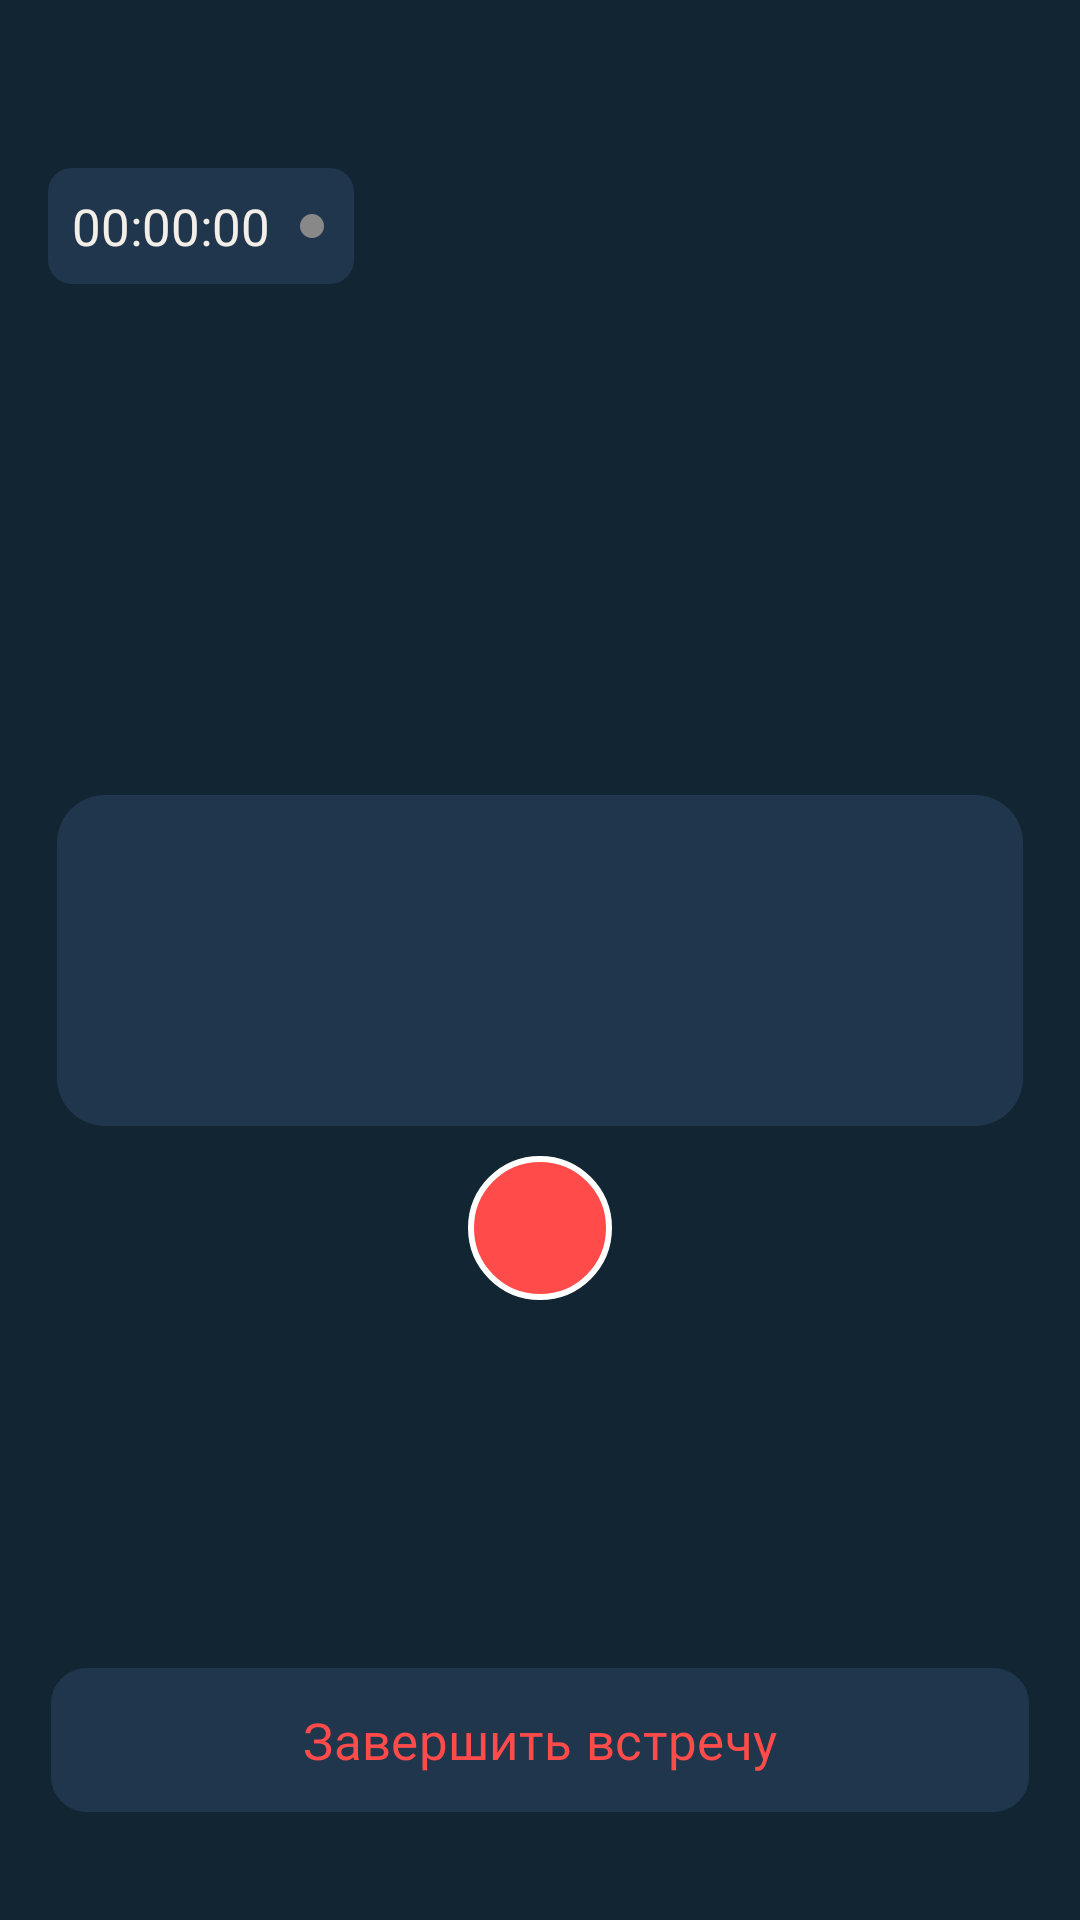

Icon bounding boxes for this 1080 × 1920 phone screenshot, format [x1=x1, y1=y1, x2=x2, y2=y2]:
record: [x1=468, y1=1156, x2=612, y2=1300]
